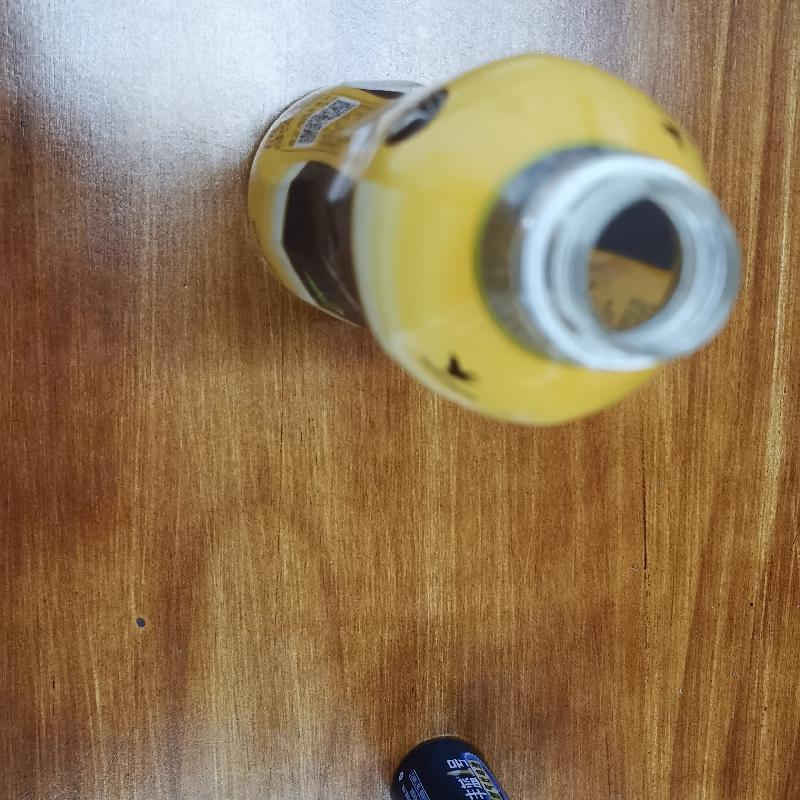bottles: (241, 54, 748, 432)
